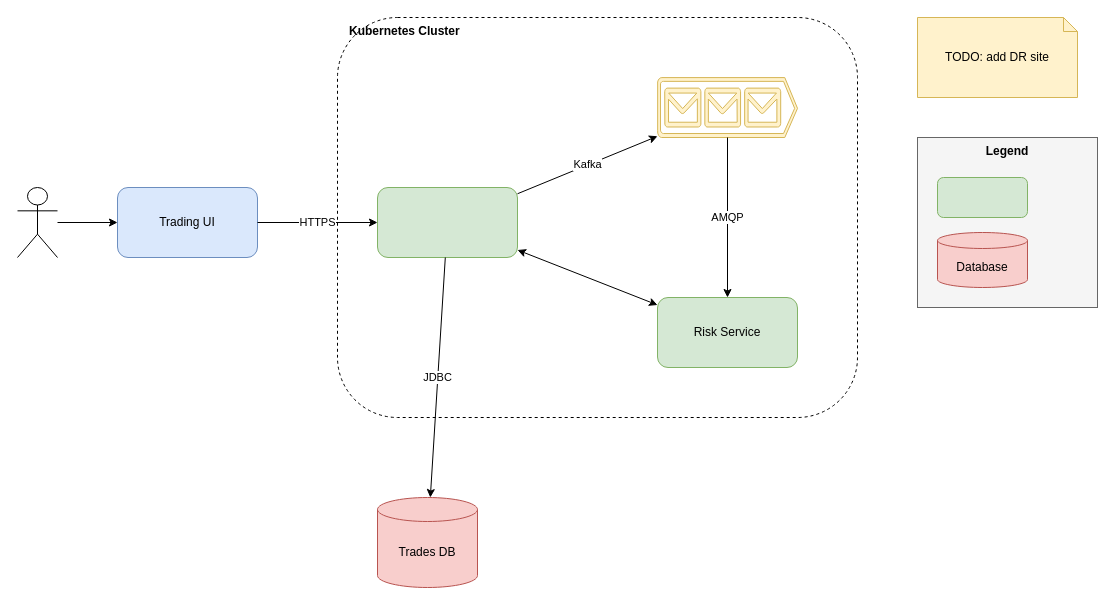
Some shapes in this 1115 by 605 pixel diagram are drawn without their labels. Each missing label, with the centre of its shape:
"Order Service" goes at point (447, 222).
"Service" goes at point (982, 197).
"Trade Events" goes at point (727, 107).
"Trader" goes at point (37, 222).
